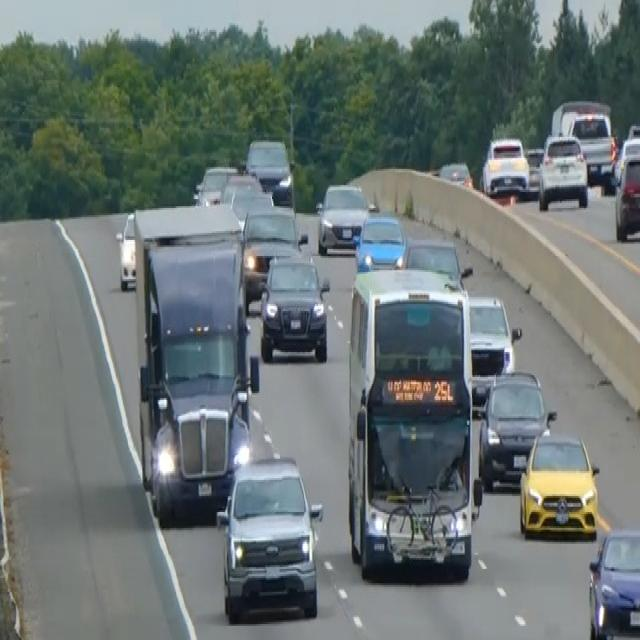bus: (344, 261, 483, 583)
car: (478, 366, 555, 489), (518, 426, 600, 540), (258, 250, 330, 362), (240, 202, 307, 308), (587, 524, 639, 638), (467, 292, 520, 375), (537, 132, 588, 210), (316, 180, 369, 252), (244, 135, 293, 203), (481, 134, 530, 198), (402, 234, 463, 284), (354, 212, 406, 270), (613, 151, 639, 240), (194, 162, 237, 204), (115, 208, 137, 290), (228, 185, 274, 224), (220, 170, 262, 204), (437, 158, 473, 188)
jeep: (215, 453, 324, 622)
lorry: (127, 201, 258, 519)
motorcycle: (382, 453, 471, 572)
truck: (550, 98, 617, 185)
